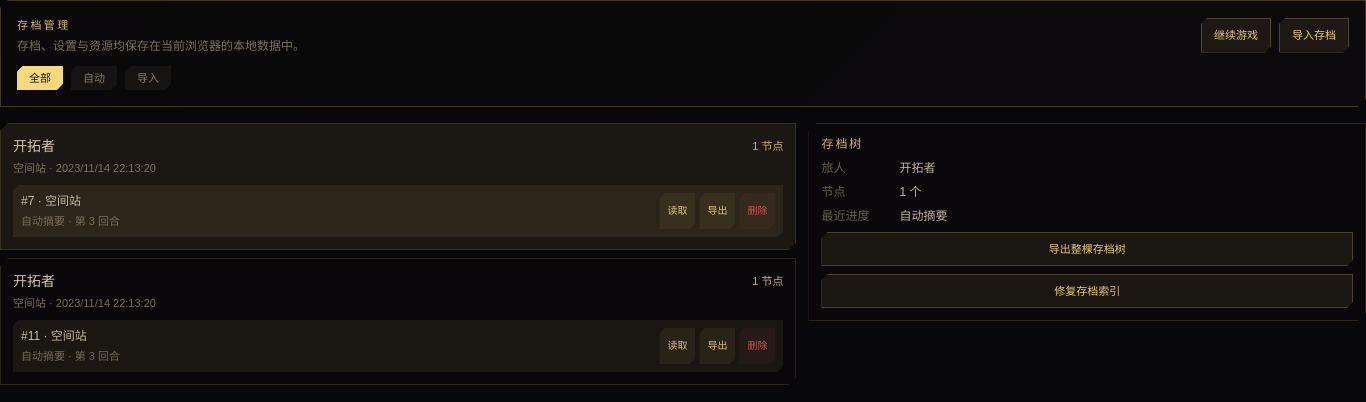
Test: 存档管理变体 settingsTab › 导入存档后切到导入过滤维度
The width and height of the screenshot is (1366, 402).
What coordinates should you click on to do the following:
click the button "导入存档"
I would click on:
 (1314, 35)
Its box is [1279, 18, 1349, 52].
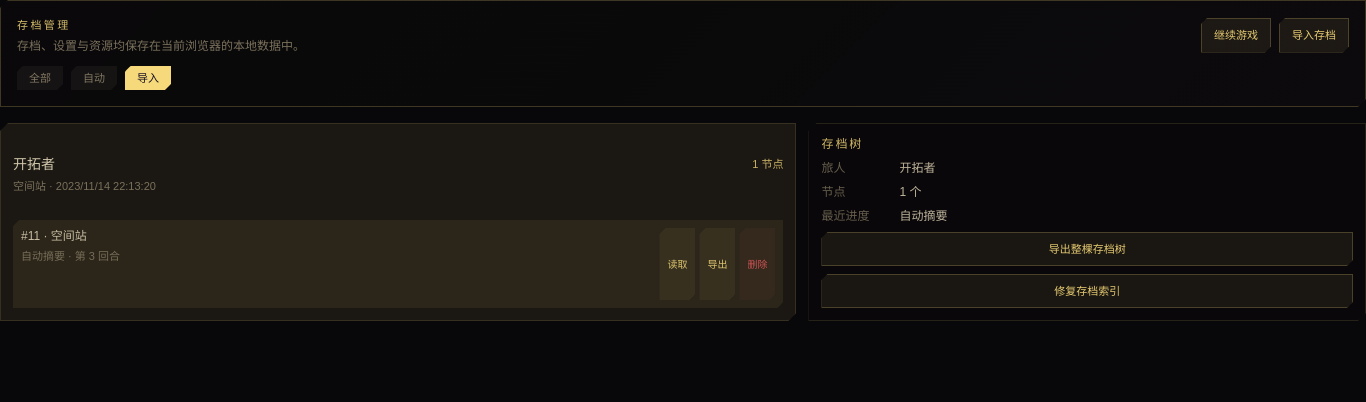
Expected: the text "#11 · 空间站" is shown, [21, 229, 87, 243]
Result: the text "#7" is not shown
